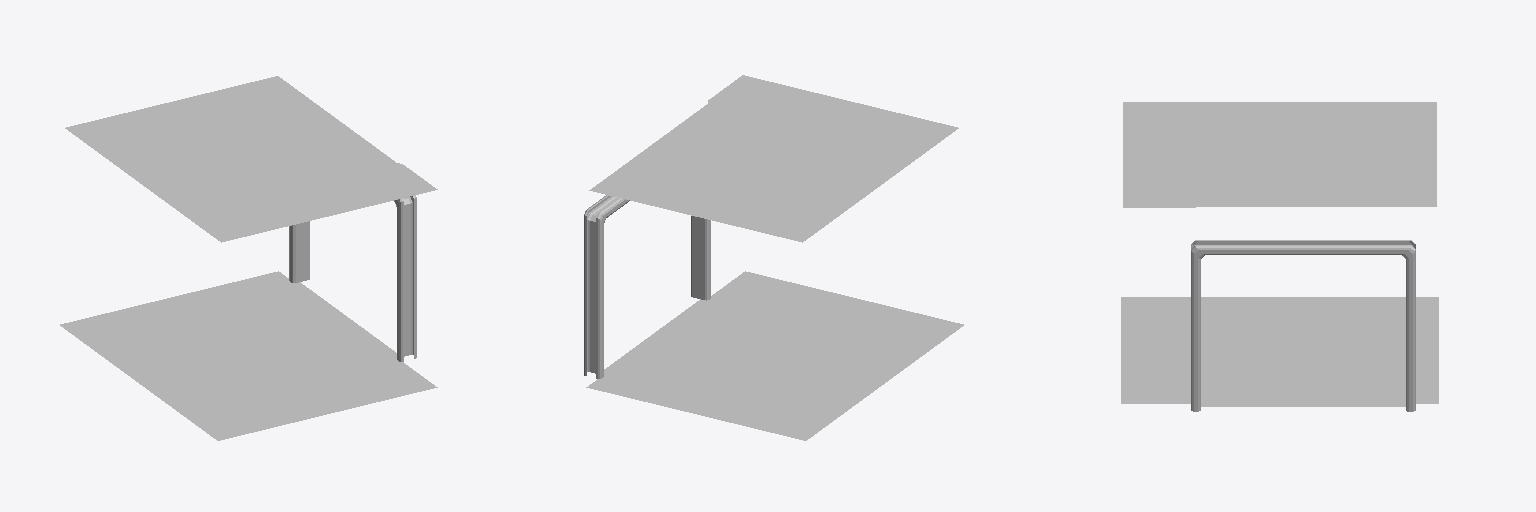
File: floorceiling.obj
3 views of the same model, side by side, from view 1: azimuth 30°, elevation 25°; view 2: azimuth 150°, elevation 25°; view 3: azimuth 270°, elevation 25° (orthographic).
Parts seen in each view (by area): view 1: floorceiling_Plane.008; view 2: floorceiling_Plane.008; view 3: floorceiling_Plane.008.
Boxes of the visible parts, <box> form: floorceiling_Plane.008: <box>60,76,437,440</box>; floorceiling_Plane.008: <box>584,75,963,440</box>; floorceiling_Plane.008: <box>1121,102,1438,411</box>.
Size of the model in its own units: 4.84 by 3.87 by 5.67.